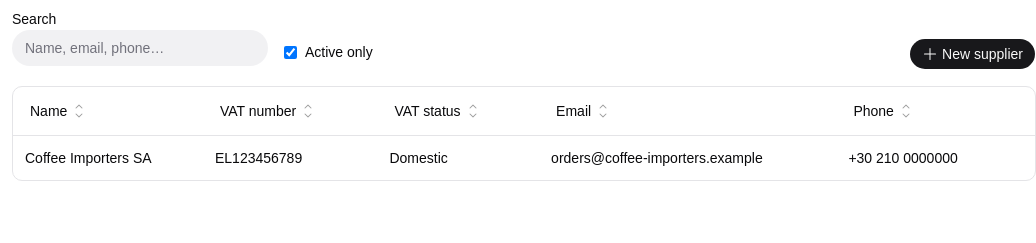
it: the supplier list › refetches without the filter when active-only is unticked, and survives it
Check: the link "Coffee Importers SA" is shown, box [25, 150, 152, 166]
Check: the text "Old Roasters Ltd" is not shown
Click the checkbox: (290,52) [284, 46, 297, 58]
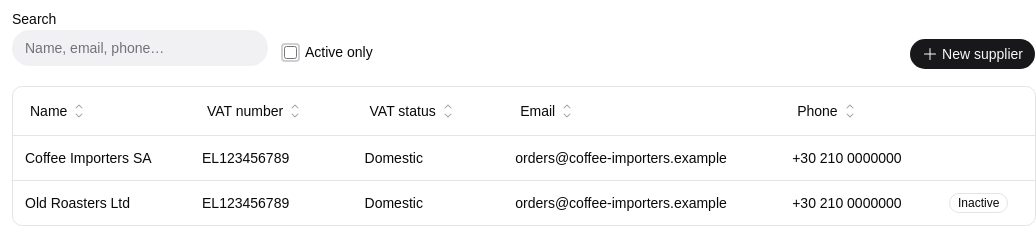
Check: the link "Old Roasters Ltd" is shown, box [25, 194, 130, 210]
